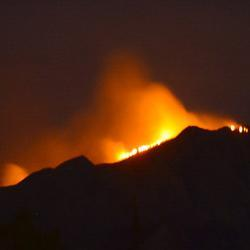fire: (120, 143, 146, 161), (151, 132, 173, 144)
